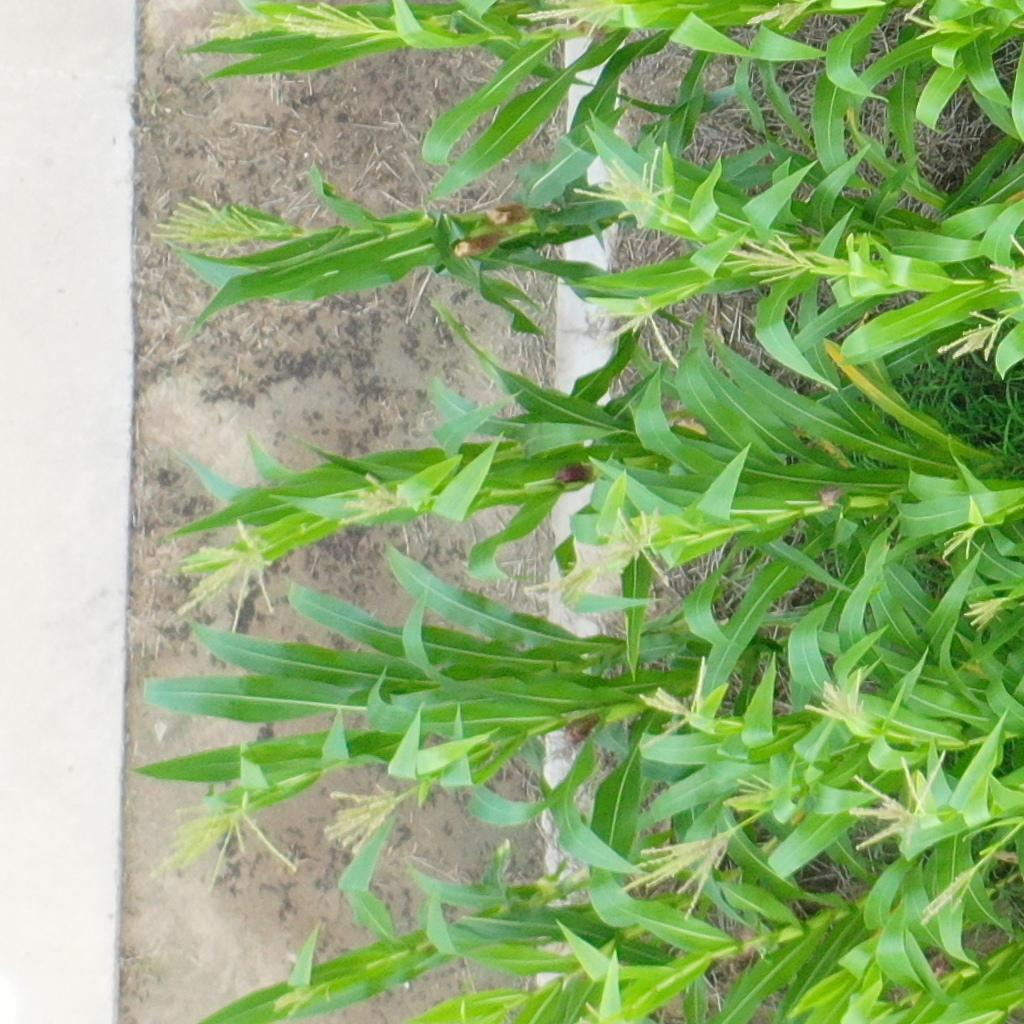Tassel: (144, 787, 299, 892), (841, 735, 947, 850), (174, 512, 278, 626), (608, 832, 735, 918), (571, 139, 675, 229), (629, 647, 713, 750), (151, 195, 269, 256), (594, 295, 685, 370), (318, 779, 404, 854), (594, 503, 676, 579), (270, 1, 394, 48), (726, 223, 809, 292), (335, 469, 411, 532), (533, 551, 603, 612), (510, 1, 628, 36), (938, 306, 1007, 364), (799, 672, 865, 728), (202, 5, 272, 47), (731, 769, 793, 814), (741, 1, 821, 35), (982, 233, 1024, 295), (809, 246, 868, 287), (266, 981, 320, 1017), (903, 1, 949, 41), (963, 590, 1005, 633), (932, 525, 977, 565)
